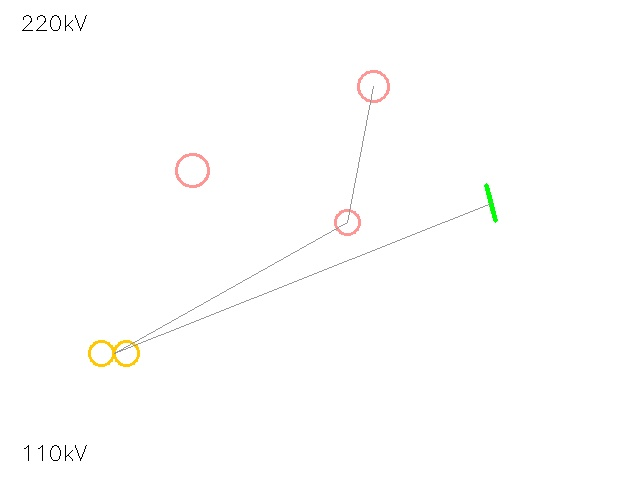busbar: (469, 181, 513, 225)
fuse: (343, 56, 403, 116)
transformer_2w: (82, 321, 146, 385)
voltage_transformer: (160, 138, 224, 202), (323, 198, 371, 246)
